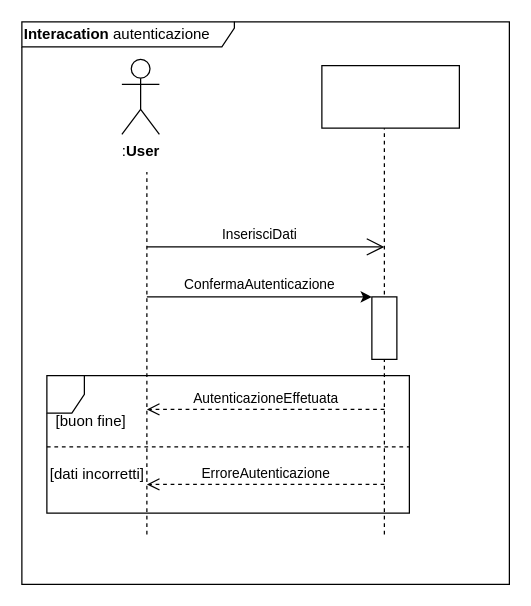
The diagram is 531 pixels wide and 606 high, and some of its shapes have lost their labels. The shapes that lost their labels are listed below. From the top down, each one's box as (x1, y1, x2, y2) in pixels, then its label:
(321, 64, 459, 128): :Sistema
(46, 374, 409, 513): alt
